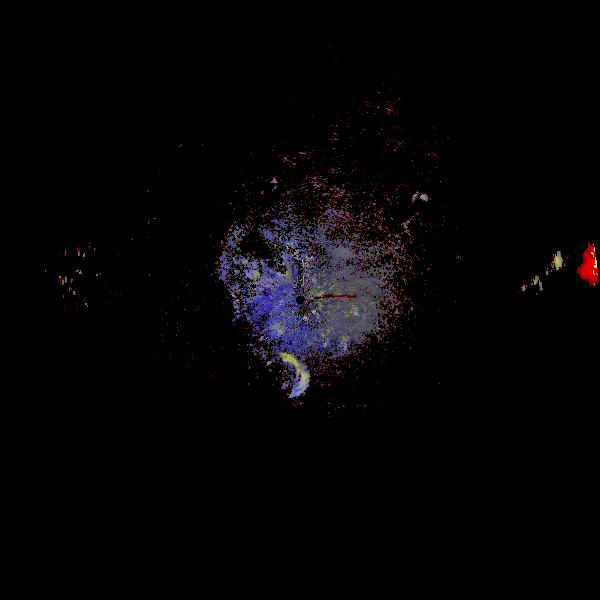roost: (262, 345, 325, 408), (257, 173, 287, 203)
